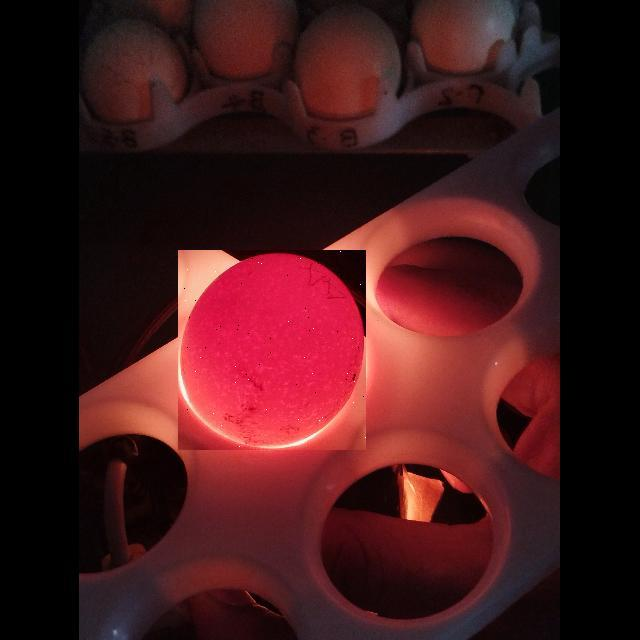Infertile: (178, 250, 366, 450)
